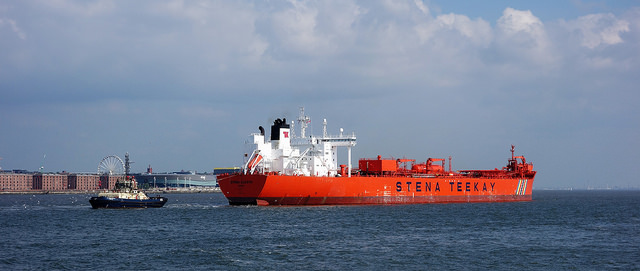tanker: (216, 107, 541, 207)
tug_boat: (93, 155, 176, 209)
